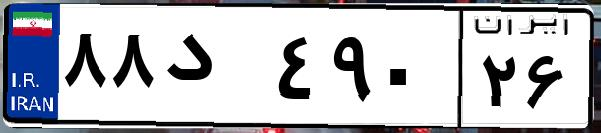0: (385, 28, 445, 110)
2: (475, 38, 525, 113)
4: (270, 28, 330, 110)
6: (525, 38, 570, 115)
8: (57, 26, 110, 100), (110, 28, 158, 98)
9: (330, 28, 385, 110)
د: (158, 20, 270, 120)
